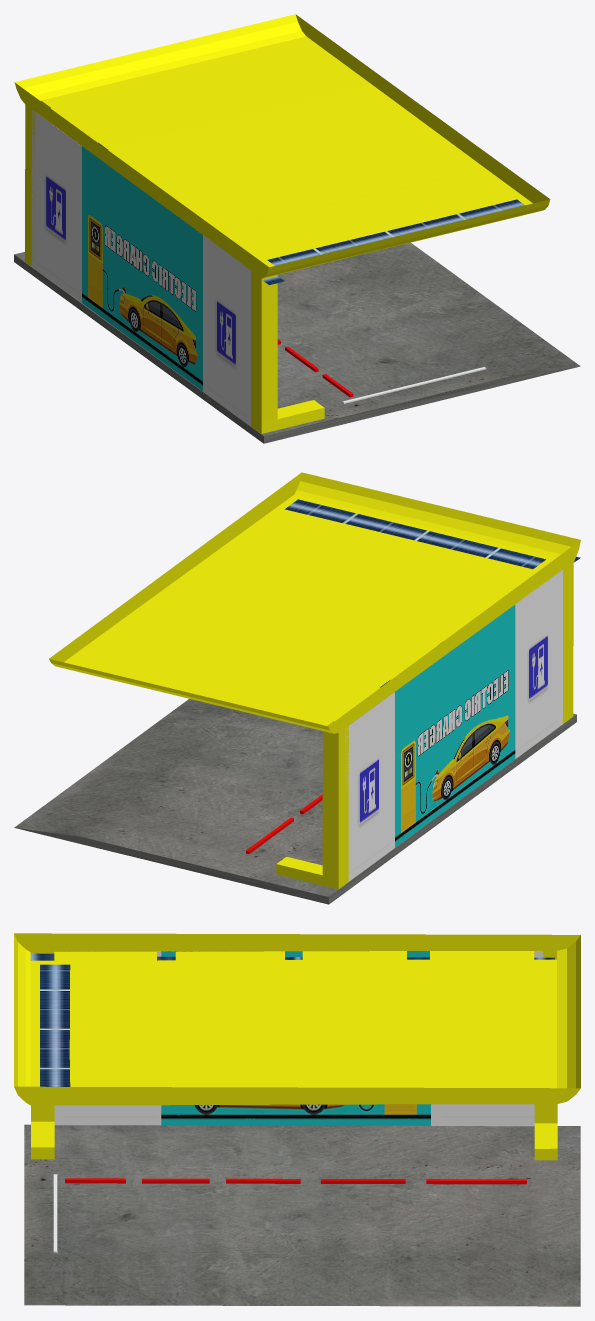
File: Electric-Charager.fbx
3 renders of one model, top to bottom at view 1: azimuth 30°, elevation 25°; view 2: azimuth 150°, elevation 25°; view 3: azimuth 270°, elevation 25°, orthographic. The views are drawn at different scales.
Visible parts, largest first — view 1: Electric_Charger; view 2: Electric_Charger; view 3: Electric_Charger.
Boxes of the visible parts, box(x1,y1,x2,y2) form: Electric_Charger: box(14, 14, 580, 443); Electric_Charger: box(14, 472, 580, 904); Electric_Charger: box(14, 933, 580, 1306).
Size of the model in its own units: 962 by 524 by 1339.
1 material, 1 textured.
